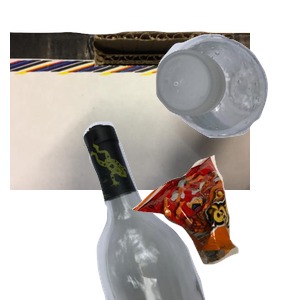cardboard: (10, 29, 250, 209)
glass: (81, 120, 300, 300)
plastic: (153, 31, 300, 161)
trash: (130, 153, 300, 300)
